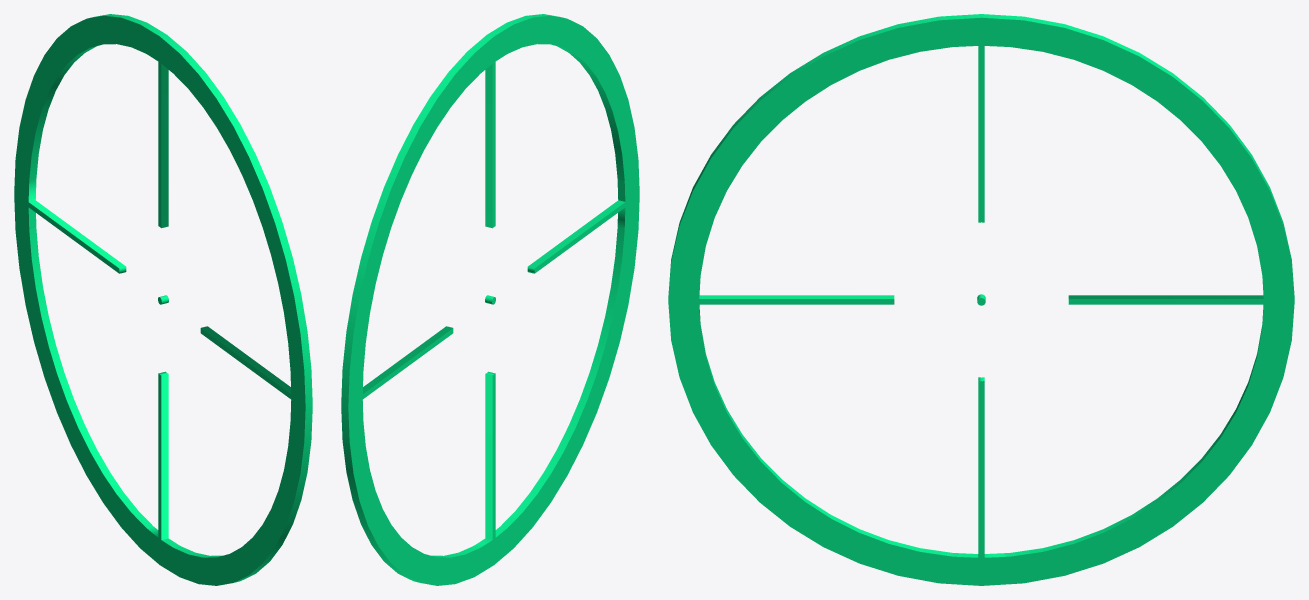
Rendered from attach_0.obj.
3 renders of one model, left to right at view 1: azimuth 30°, elevation 25°; view 2: azimuth 150°, elevation 25°; view 3: azimuth 270°, elevation 25°, orthographic. The views are drawn at different scales.
Parts seen in each view (by area): view 1: Curve_Curve.004; view 2: Curve_Curve.004; view 3: Curve_Curve.004.
Boxes of the visible parts, x1=… form: Curve_Curve.004: x1=14, y1=14, x2=312, y2=585; Curve_Curve.004: x1=341, y1=14, x2=639, y2=585; Curve_Curve.004: x1=668, y1=14, x2=1294, y2=585.
Bounding box in the file's own units: 0.006 × 0.4233 × 0.423.
